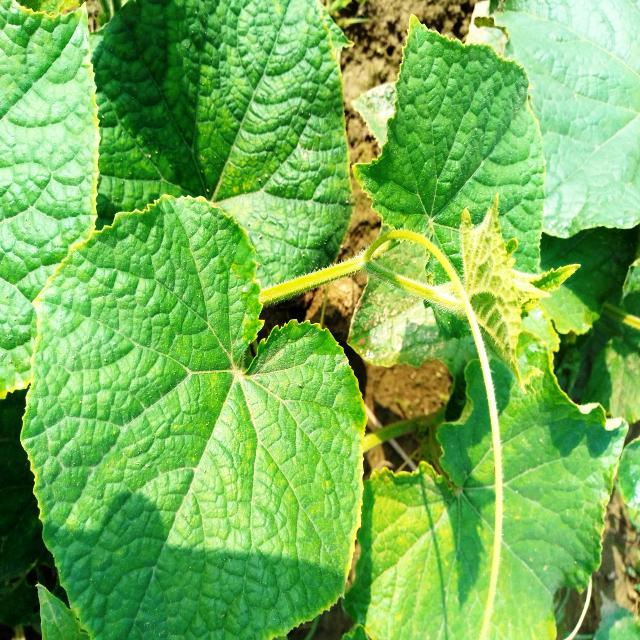Fresh-Leaf: (19, 192, 368, 640), (348, 14, 546, 283)
